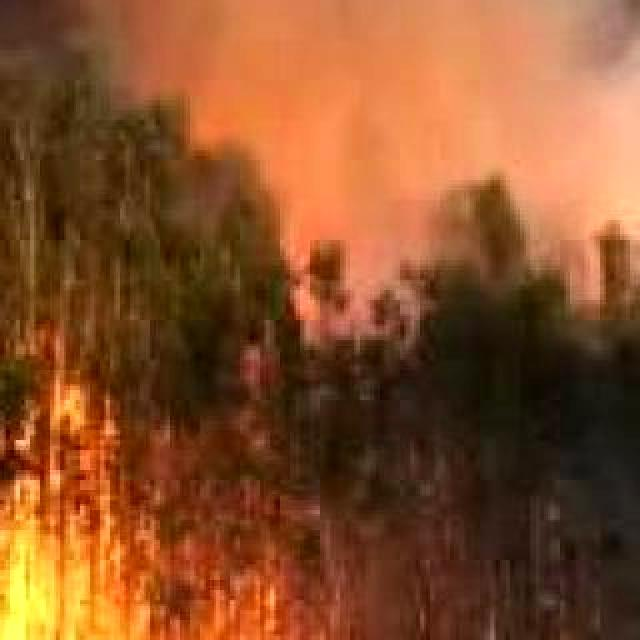fire: (0, 364, 322, 640)
